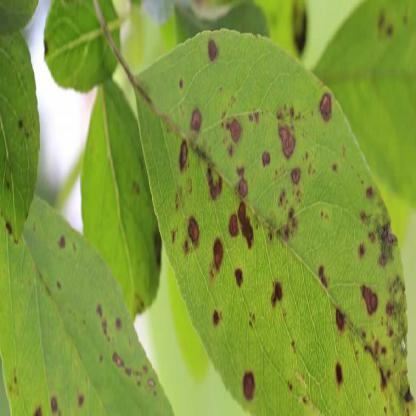apple scab leaf: (136, 35, 416, 415)
